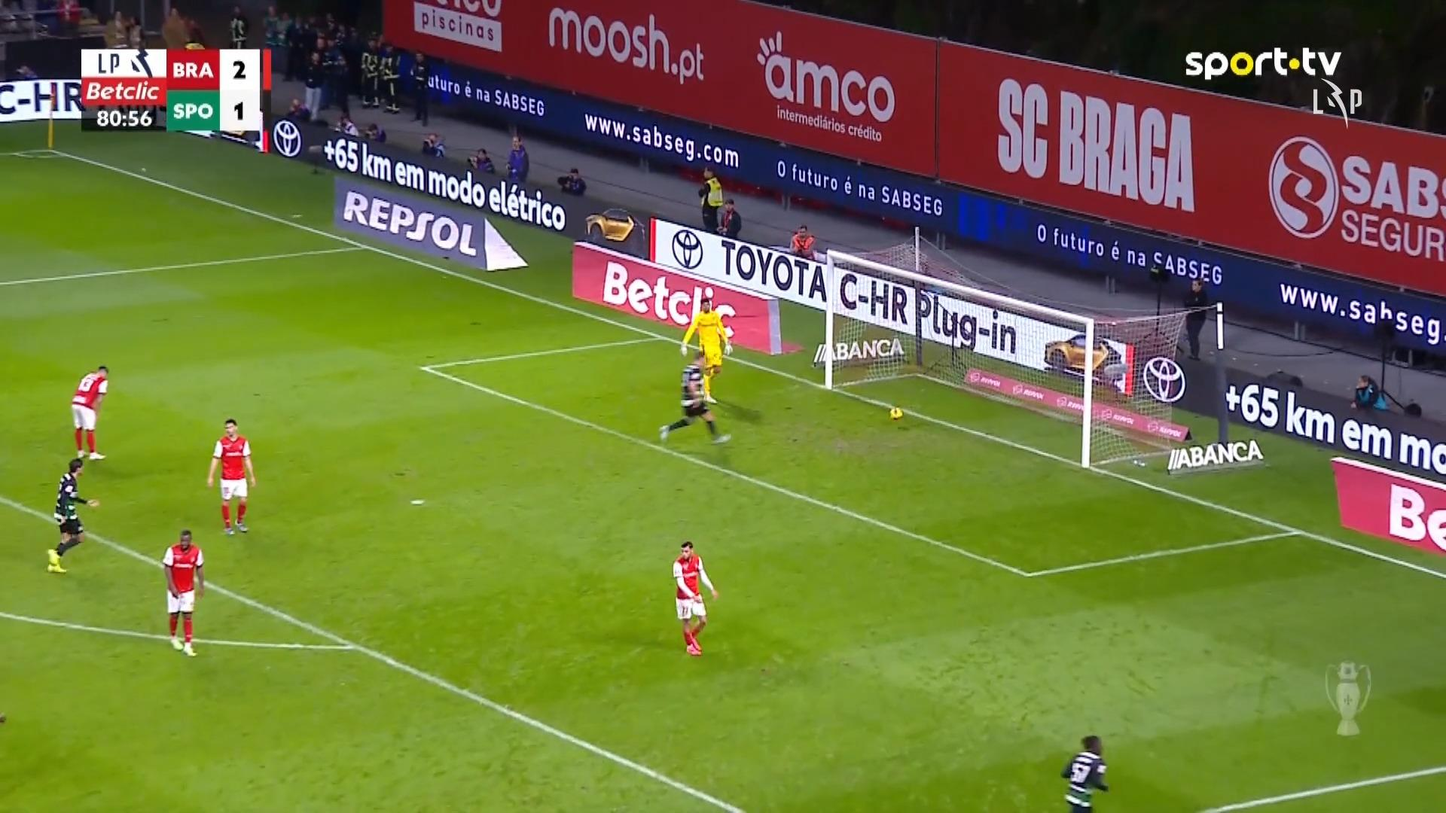ball: (889, 406, 902, 419)
goalkeeper: (679, 295, 733, 403)
player: (657, 352, 731, 445), (45, 458, 99, 573), (205, 418, 257, 535), (161, 528, 205, 656), (671, 540, 718, 656), (1060, 734, 1109, 811), (70, 364, 109, 460)
